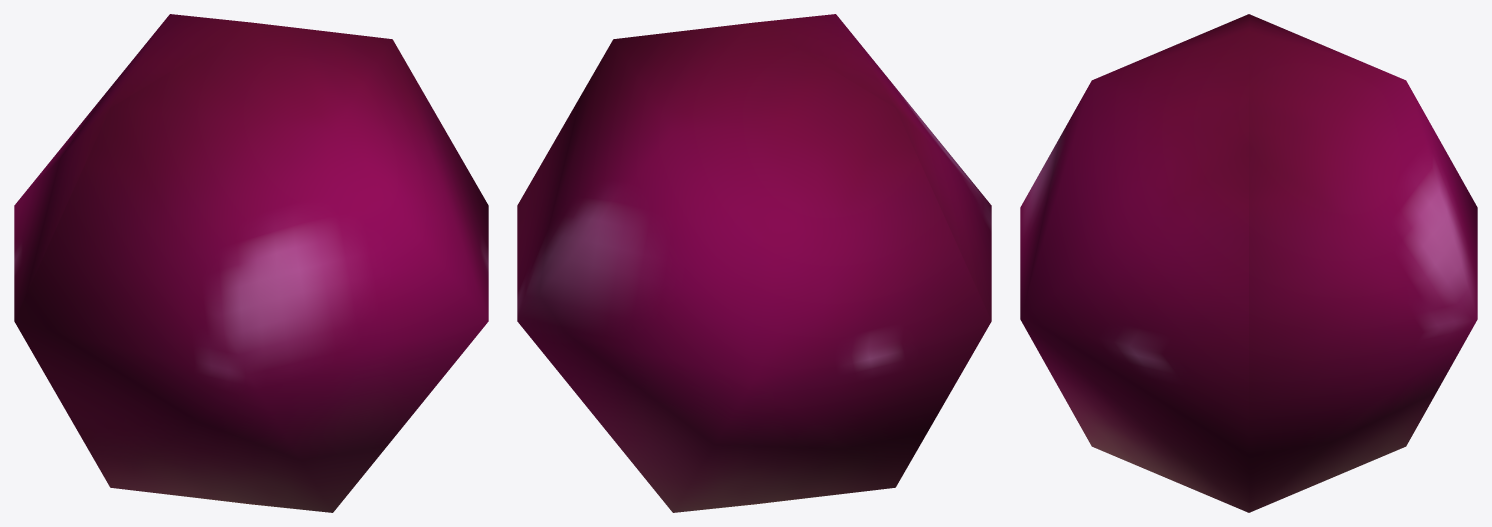
The model's file is jsf_Grape_01.fbx.
3 views of the same model, side by side, from view 1: azimuth 30°, elevation 25°; view 2: azimuth 150°, elevation 25°; view 3: azimuth 270°, elevation 25° (orthographic). The views are drawn at different scales.
Visible parts, largest first — view 1: jsf_Grape_01; view 2: jsf_Grape_01; view 3: jsf_Grape_01.
Part boxes in pixels (left/top/right/bottom): jsf_Grape_01: left=14, top=14, right=488, bottom=512; jsf_Grape_01: left=517, top=14, right=991, bottom=512; jsf_Grape_01: left=1020, top=14, right=1477, bottom=512.
Bounding box in the file's own units: 2.61 × 2.53 × 2.26.
